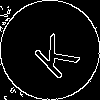K: (25, 25, 81, 82)
